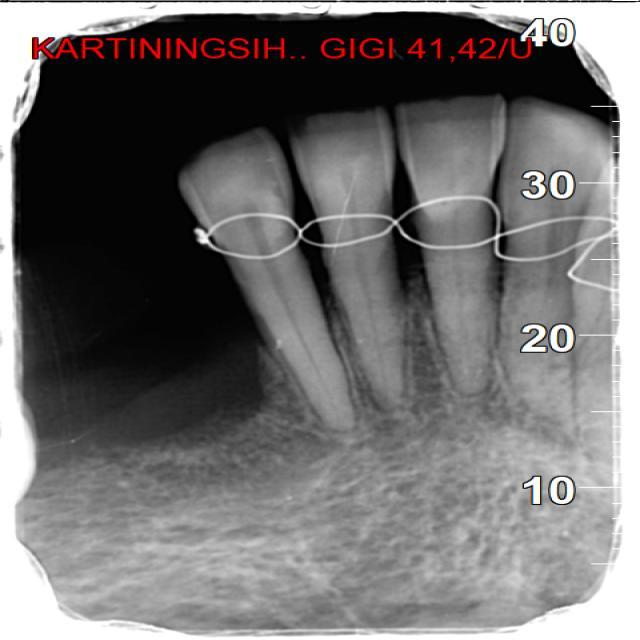individual-tooth-8tto: (180, 120, 356, 427), (397, 91, 517, 392), (294, 109, 401, 406)
